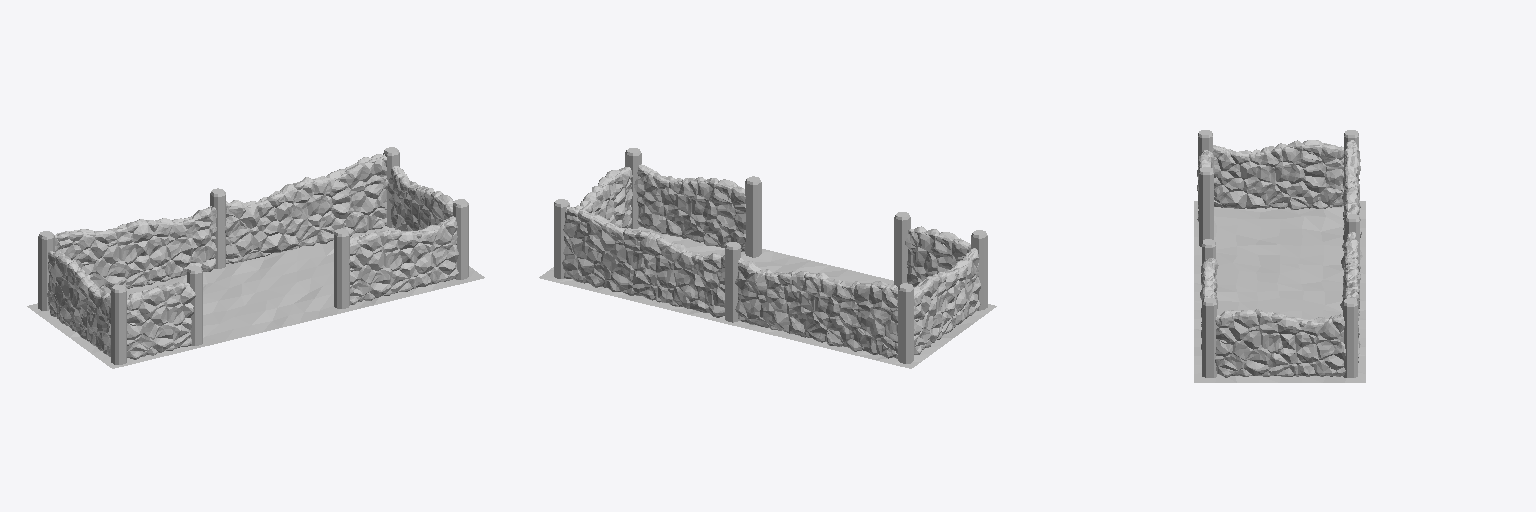
File: HauseRuins5_2.obj
The picture shows the model from 3 angles: view 1: azimuth 30°, elevation 25°; view 2: azimuth 150°, elevation 25°; view 3: azimuth 270°, elevation 25°; orthographic projection.
Visible parts, largest first — view 1: Plane.009; view 2: Plane.009; view 3: Plane.009.
Boxes of the visible parts, <box> form: Plane.009: <box>27,147,484,368</box>; Plane.009: <box>539,148,996,368</box>; Plane.009: <box>1194,130,1365,382</box>.
Bounding box in the file's own units: 10 × 1.97 × 4.